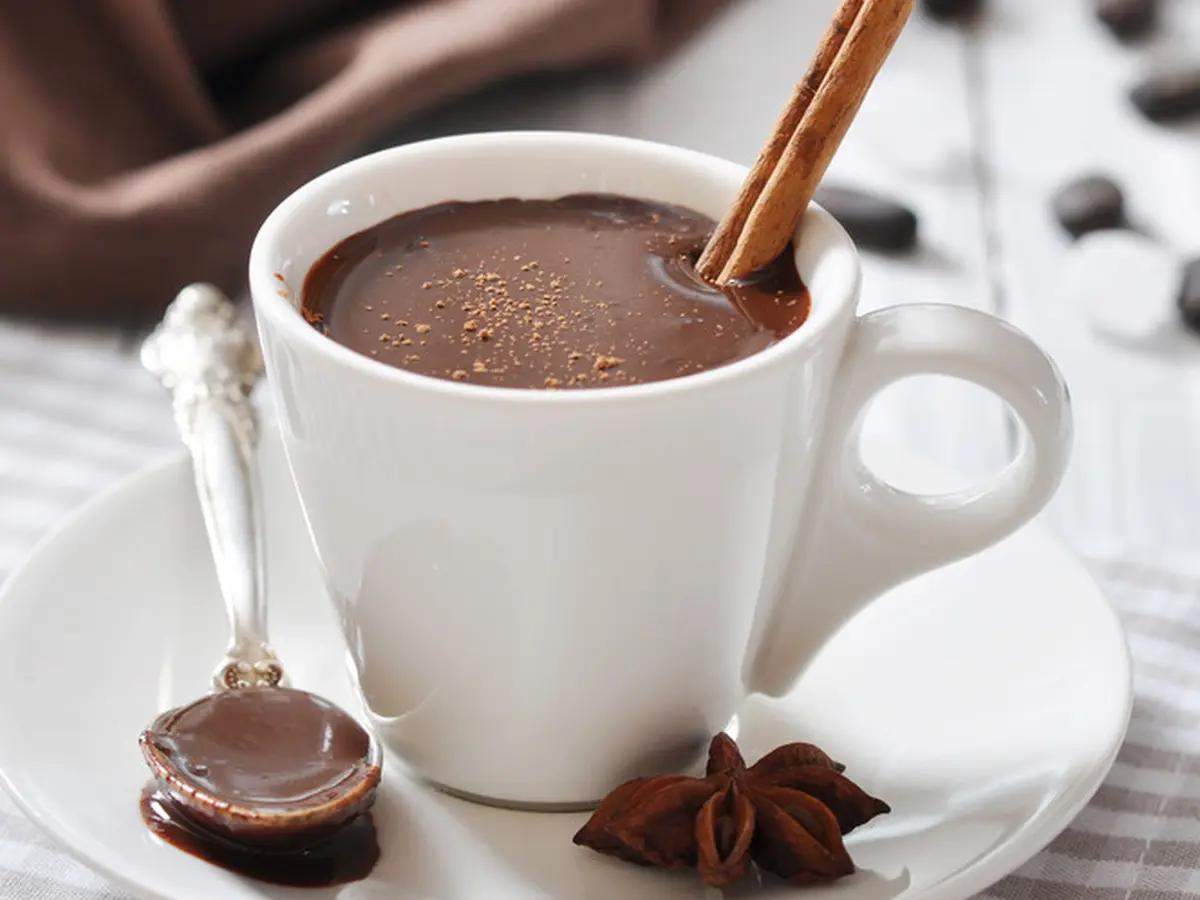produk_susu: (338, 183, 708, 354)
